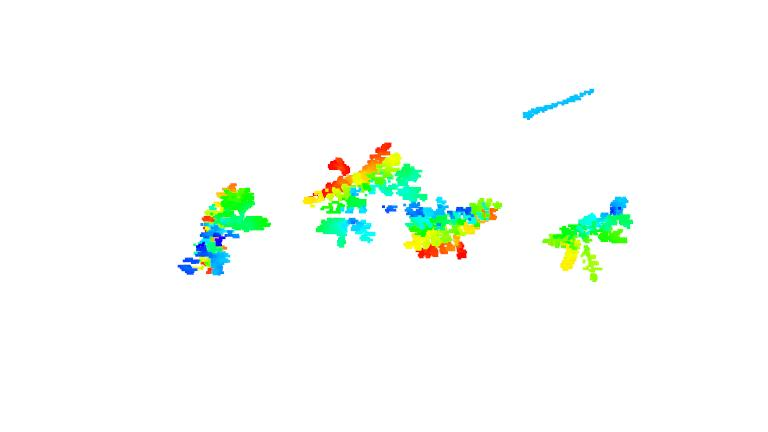chickpea: (303, 139, 417, 250), (172, 177, 277, 281), (538, 193, 639, 283), (402, 189, 505, 265)
